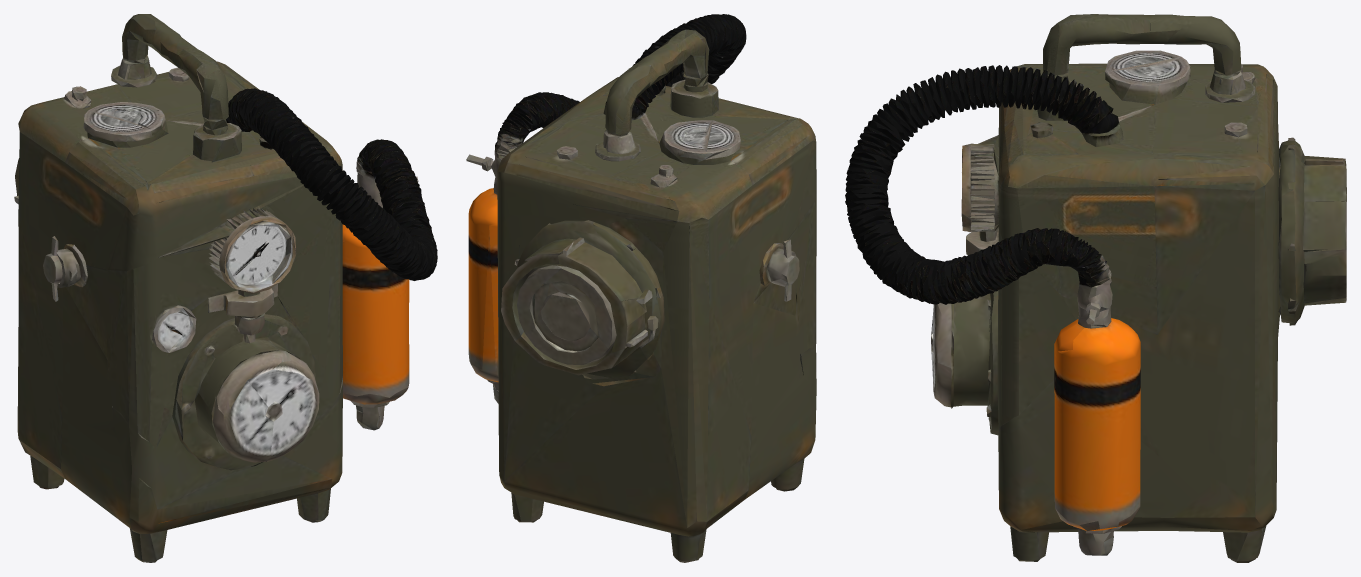
The model's file is collector.glb.
3 renders of one model, left to right at view 1: azimuth 30°, elevation 25°; view 2: azimuth 150°, elevation 25°; view 3: azimuth 270°, elevation 25°, orthographic. The views are drawn at different scales.
Visible parts, largest first — view 1: Mesh_0.005; view 2: Mesh_0.005; view 3: Mesh_0.005.
Part boxes in pixels (<box>): Mesh_0.005: <box>14,14,437,562</box>; Mesh_0.005: <box>466,14,816,562</box>; Mesh_0.005: <box>845,14,1346,562</box>.
Size of the model in its own units: 1.5 by 1.9 by 1.74.
Materials: 1 (1 with a texture image).
